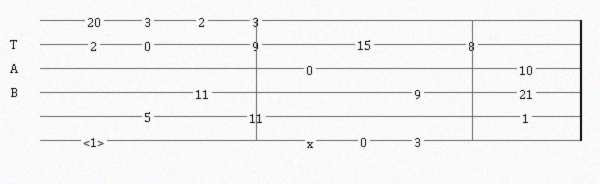0: (144, 38, 155, 51), (306, 62, 317, 75), (360, 134, 371, 147)
1: (522, 110, 533, 123)
10: (519, 62, 537, 75)
11: (195, 86, 213, 99), (249, 110, 267, 123)
15: (357, 37, 375, 51)
2: (90, 38, 101, 51), (198, 14, 209, 27)
20: (87, 14, 105, 27)
21: (519, 86, 537, 99)
3: (144, 14, 155, 27), (252, 14, 263, 27), (414, 134, 425, 147)
5: (144, 109, 155, 123)
8: (468, 38, 479, 51)
9: (252, 38, 263, 51), (414, 86, 425, 99)
harmonic: (83, 134, 108, 147)
x: (307, 135, 317, 145)
